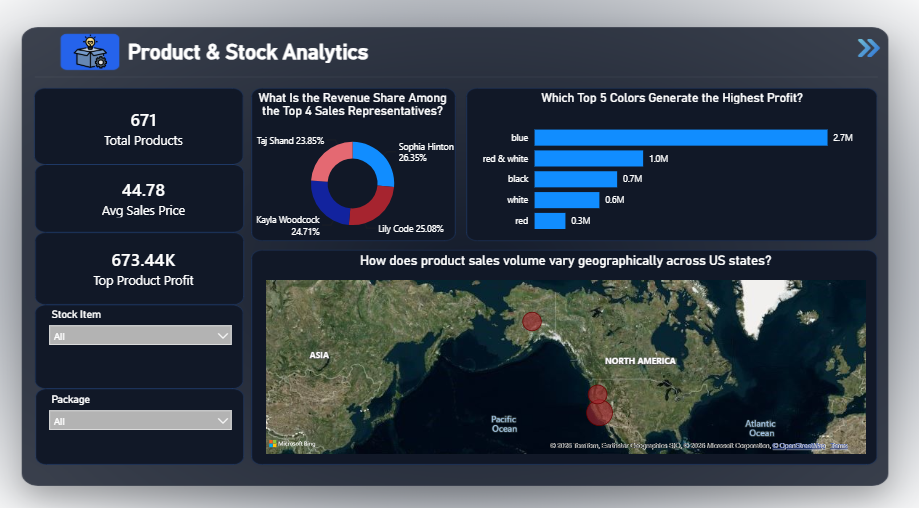

The dashboard page shown, as its layout file describes it:
{"tool":"powerbi","page":{"name":"Page 3","canvas":[1280,720],"ordinal":3},"visuals":[{"type":"image","box":[65.7,58.6,132.9,48.6],"z":0},{"type":"shape","title":"Product & Stock Analytics","box":[184.3,65.7,345.8,42.5],"z":1000},{"type":"cardVisual","fields":{"Data":["DimStockItem.Avg Sales Price"]},"box":[65.2,239.5,282,89.3],"z":2000},{"type":"donutChart","title":"What Is the Revenue Share Among the Top 4 Sales Representatives?","fields":{"Category":["DimEmployee.Employee"],"Y":["FactSale.Total Revenue"]},"box":[347.2,136.1,293.4,208.3],"z":3000},{"type":"cardVisual","fields":{"Data":["DimStockItem.Top Product by Profit"]},"box":[65.2,328.8,282,103.5],"z":4000},{"type":"map","title":"How does product sales volume vary geographically across US states?","fields":{"Category":["DimCity.State Province"],"Size":["FactSale.Total Revenue"]},"box":[368.5,360,836.2,282],"z":5000},{"type":"barChart","title":"Which Top 5 Colors Generate the Highest Profit?","fields":{"Category":["DimStockItem.Color"],"Y":["FactSale.Total Profit"]},"box":[661.4,135.7,542.9,208.6],"z":6000},{"type":"cardVisual","fields":{"Data":["DimStockItem.Total Products"]},"box":[65.2,136.1,282,103.5],"z":7000},{"type":"slicer","fields":{"Values":["FactSale.Package"]},"box":[65.7,548.6,271.4,104.3],"z":8000},{"type":"slicer","fields":{"Values":["DimStockItem.Stock Item"]},"box":[65.7,432.9,271.4,104.3],"z":9000},{"type":"image","box":[1176.4,62.4,55.3,32.6],"z":10000}]}

Visuals, with their boxes in screenshot pixels (x1, y1, x2, y2), scaled from the page's 1280x720 canvas onto the 919x508 screenshot:
image: rect(47, 41, 143, 76)
"Product & Stock Analytics" shape: rect(132, 46, 381, 76)
cardVisual - DimStockItem.Avg Sales Price: rect(47, 169, 249, 232)
"What Is the Revenue Share Among the Top 4 Sales Representatives?" donutChart: rect(249, 96, 460, 243)
cardVisual - DimStockItem.Top Product by Profit: rect(47, 232, 249, 305)
"How does product sales volume vary geographically across US states?" map: rect(265, 254, 865, 453)
"Which Top 5 Colors Generate the Highest Profit?" barChart: rect(475, 96, 865, 243)
cardVisual - DimStockItem.Total Products: rect(47, 96, 249, 169)
slicer - FactSale.Package: rect(47, 387, 242, 461)
slicer - DimStockItem.Stock Item: rect(47, 305, 242, 379)
image: rect(845, 44, 884, 67)
